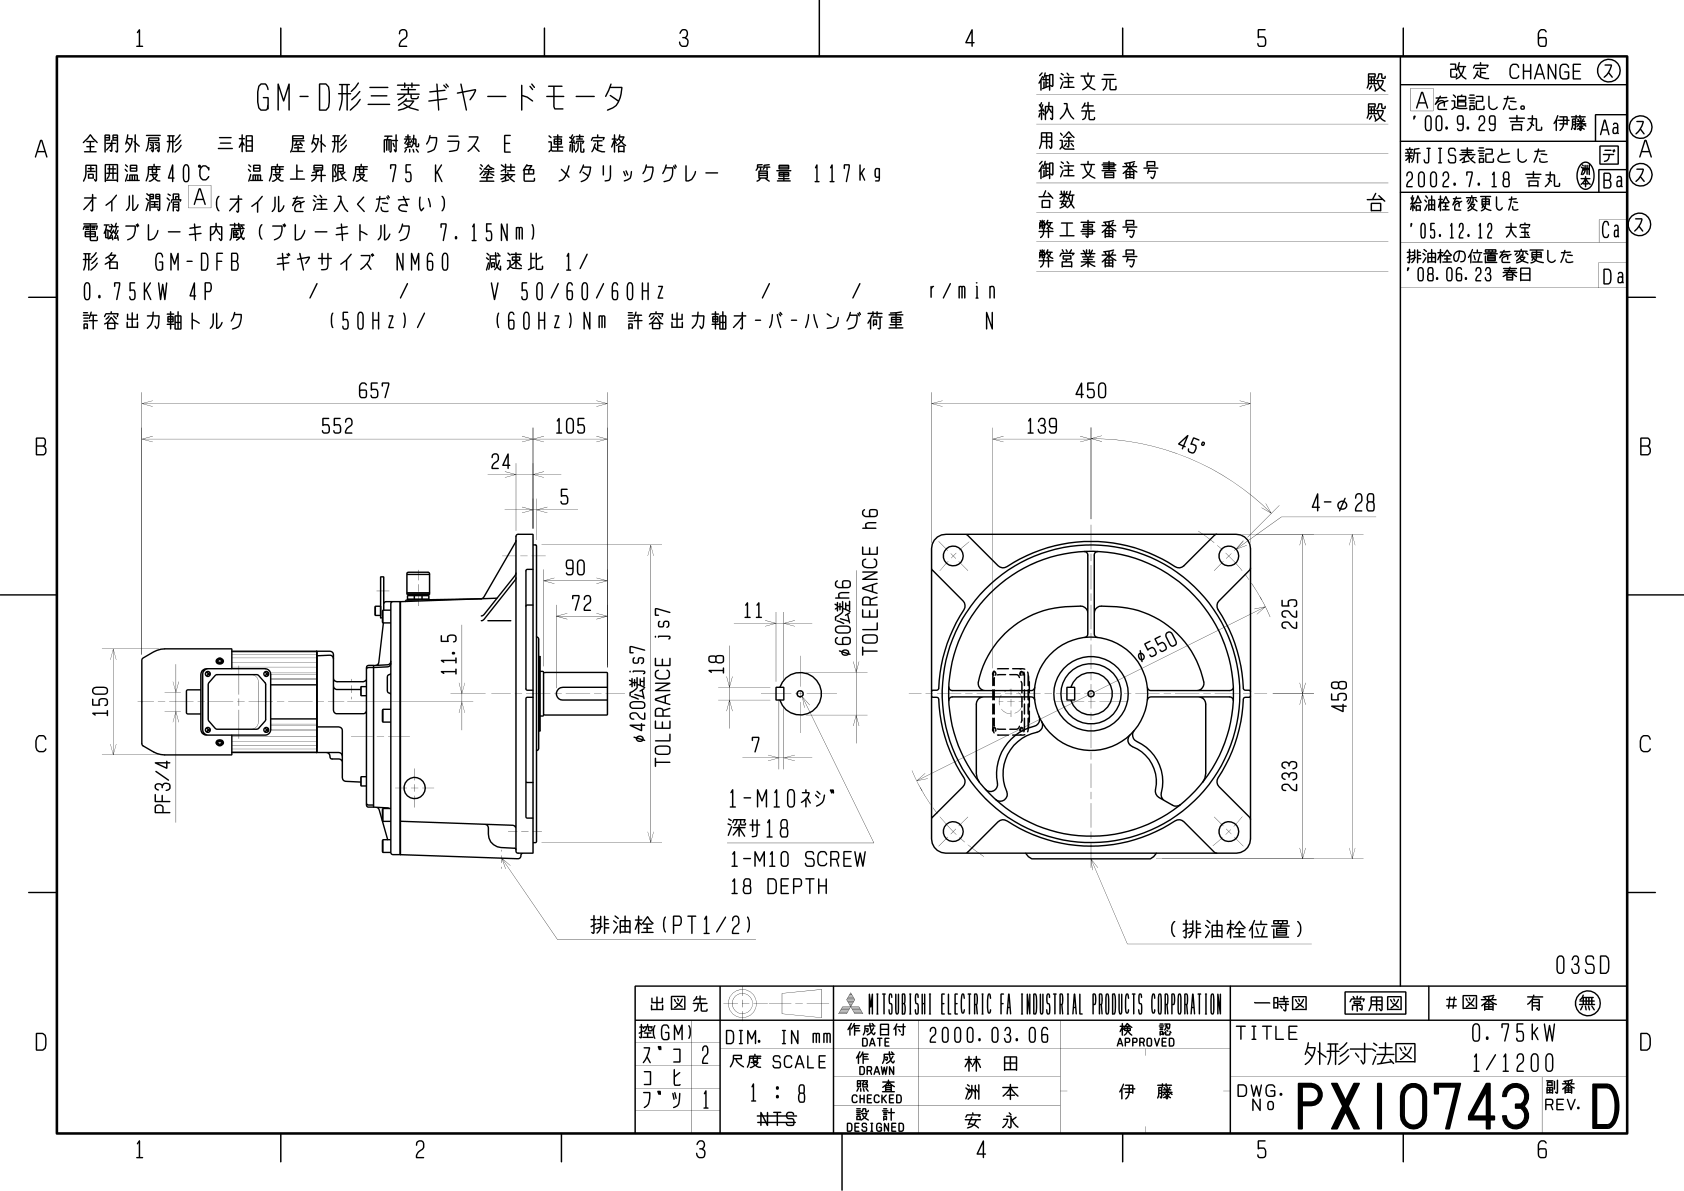GM_D_屋外＿三相_フランジ: (10, 12, 1684, 1191)
